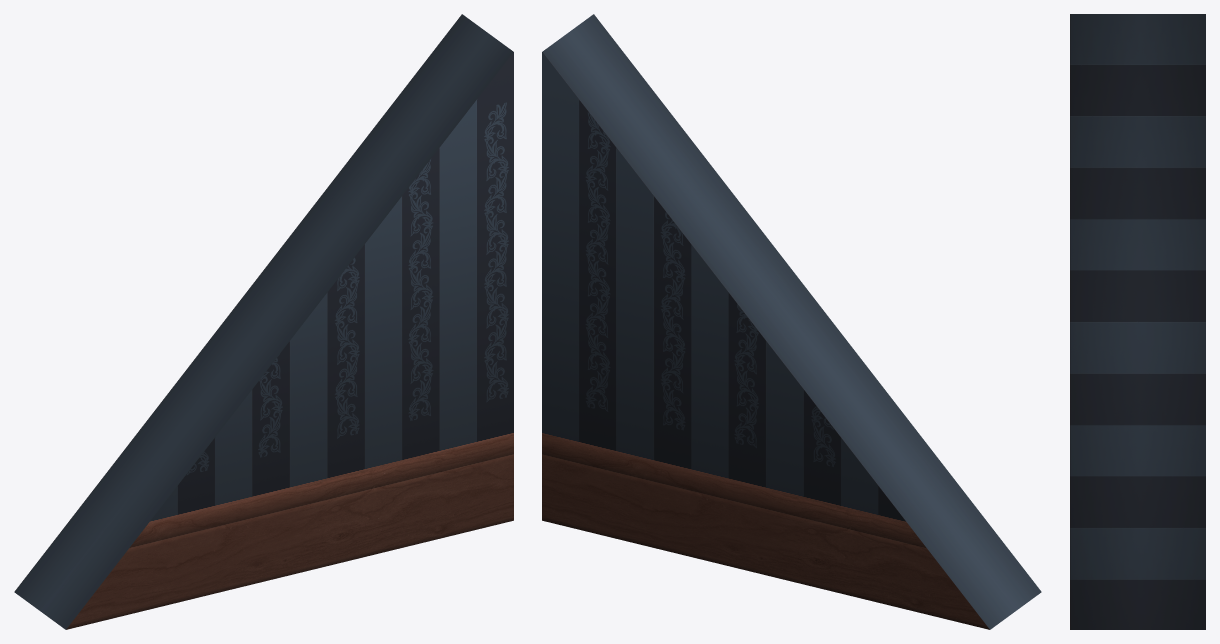
File: TriangleWall.fbx
3 renders of one model, left to right at view 1: azimuth 30°, elevation 25°; view 2: azimuth 150°, elevation 25°; view 3: azimuth 270°, elevation 25°, orthographic. The views are drawn at different scales.
Visible parts, largest first — view 1: TriangleWall; view 2: TriangleWall; view 3: TriangleWall.
Part boxes in pixels (bbox=[...]): TriangleWall: bbox=[14, 14, 513, 629]; TriangleWall: bbox=[542, 14, 1041, 629]; TriangleWall: bbox=[1070, 14, 1205, 629].
Size of the model in its own units: 0.05 by 0.05 by 0.01.
